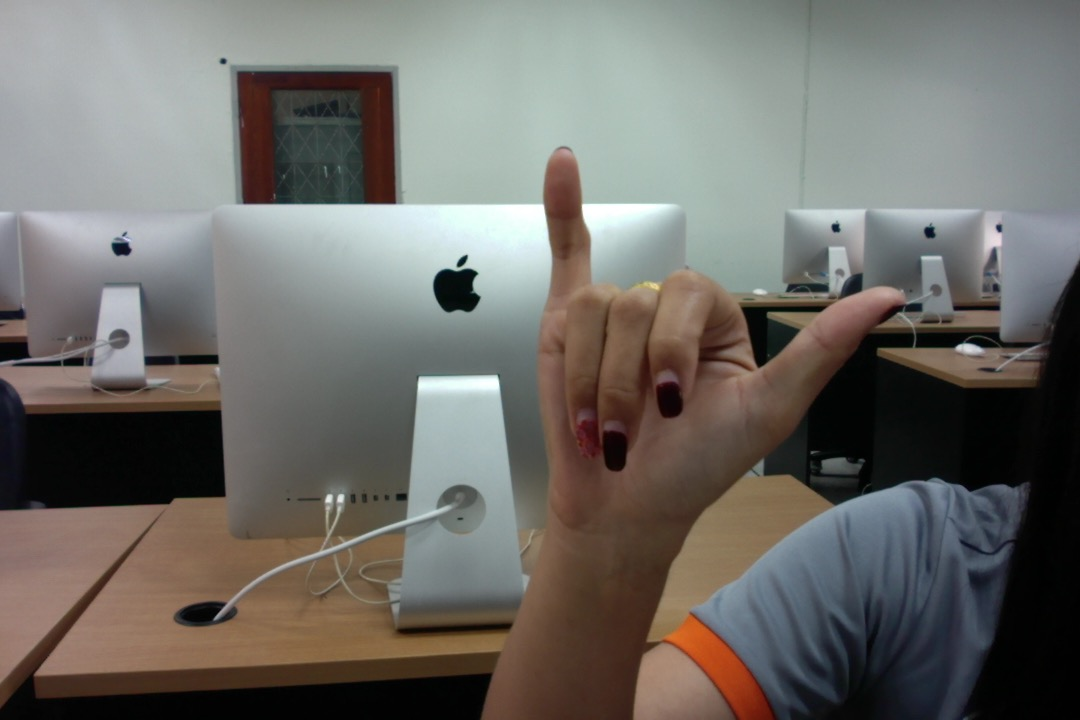yor: (518, 142, 922, 557)
